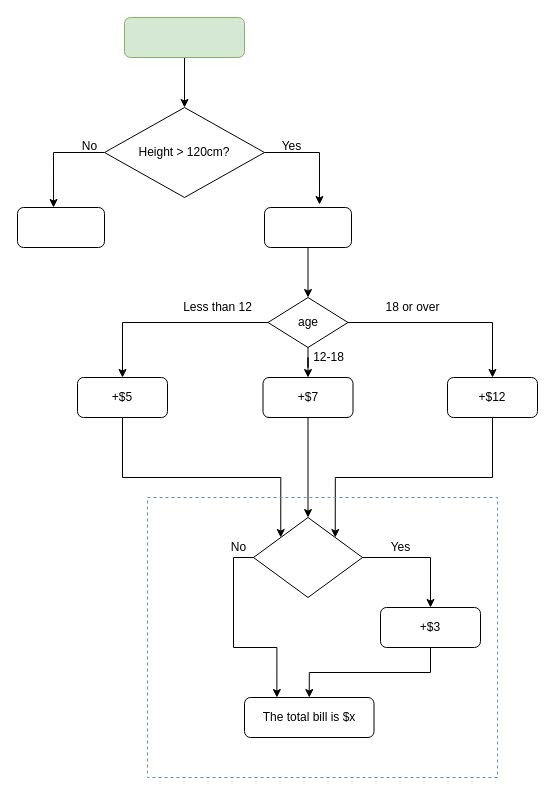
This 555x795 diagram has some shape labels left out. Here are the shapes that lost their labels. From the top down, the box of each, then its label:
(124, 16, 244, 58): Start
(16, 206, 104, 248): Can't ride
(264, 206, 352, 248): Can ride
(252, 516, 362, 598): want photos?
